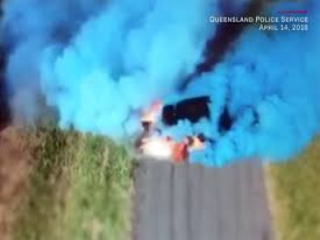fire: (134, 107, 195, 164)
smoke: (2, 3, 310, 144)
